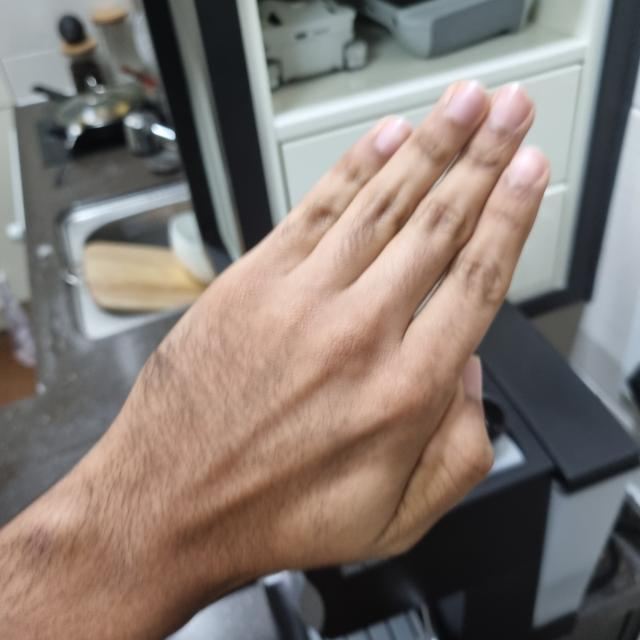Paper: (88, 85, 549, 585)
